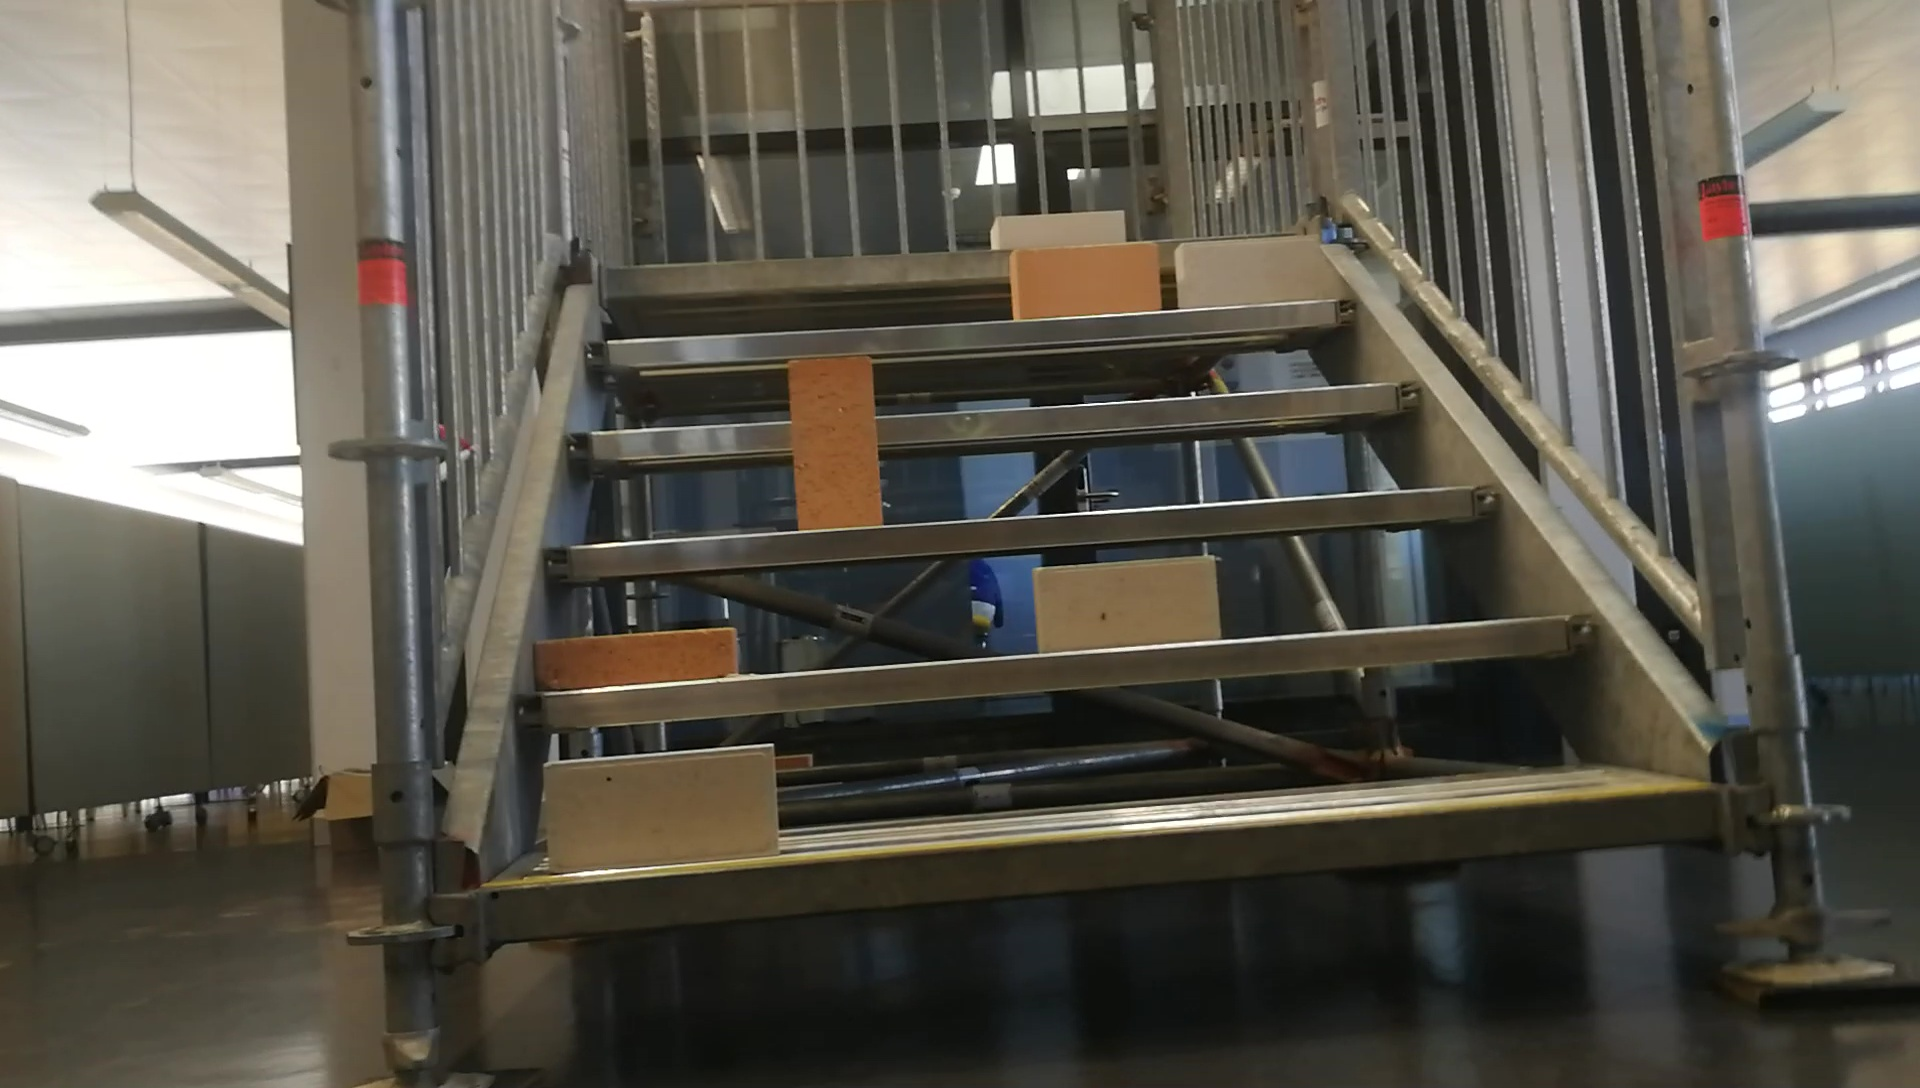brick: (547, 742, 767, 870), (1036, 558, 1217, 648), (793, 355, 882, 528), (535, 628, 736, 686), (1007, 247, 1153, 317), (1178, 240, 1313, 306), (994, 208, 1127, 245)
edge: (496, 789, 1706, 938), (512, 615, 1593, 720), (535, 485, 1491, 578), (570, 382, 1422, 462), (585, 298, 1352, 369)
stairs: (293, 0, 1917, 1085)
steps: (472, 195, 1727, 963)
